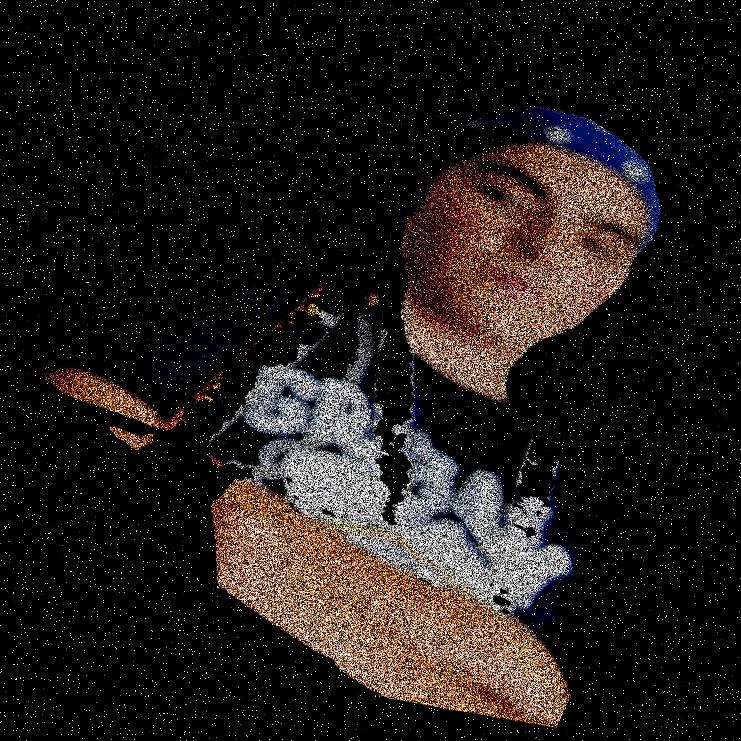Pessoa: (360, 0, 605, 740)
